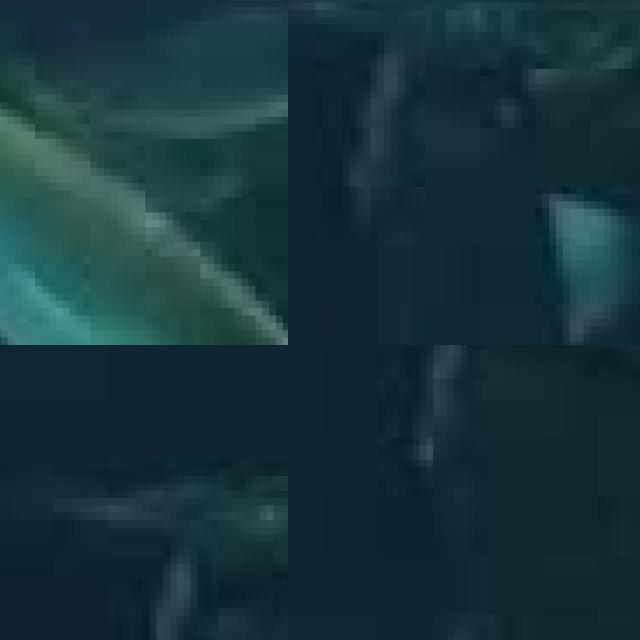fish: (0, 0, 288, 345)
